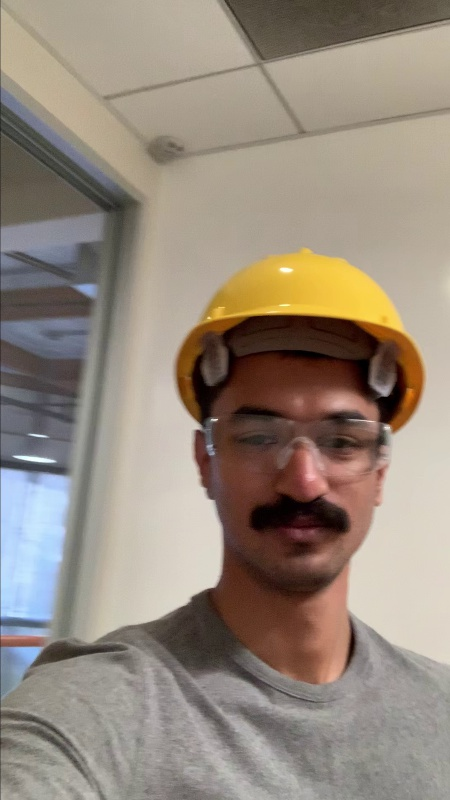glasses: (194, 410, 393, 480)
helmet: (168, 241, 434, 387)
